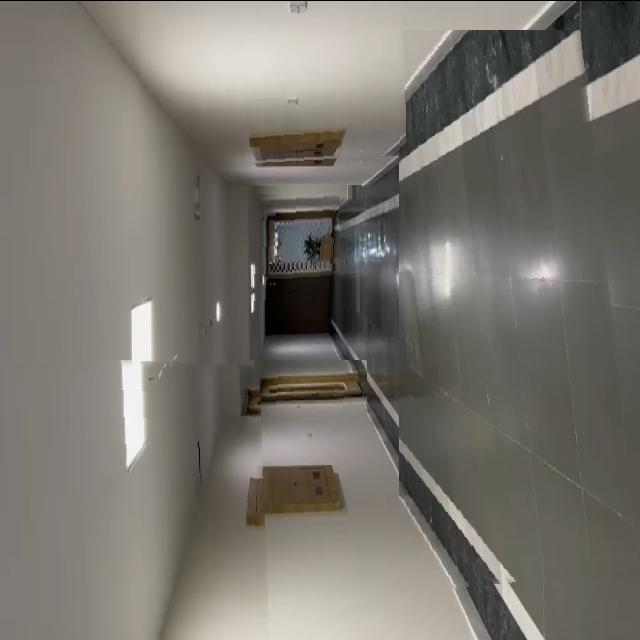door: (251, 193, 339, 314), (240, 359, 367, 421)
floor: (399, 29, 640, 594)
furniture: (281, 227, 338, 266)
wall: (0, 353, 270, 640), (140, 0, 407, 168)
